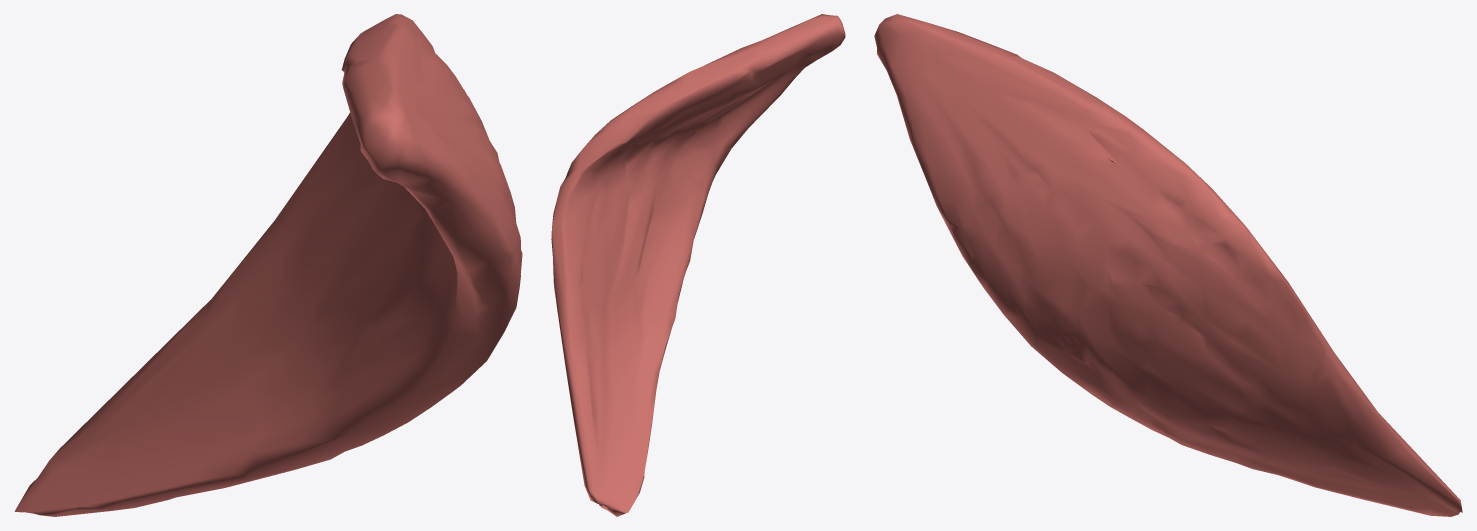
3 views of the same model, side by side, from view 1: azimuth 30°, elevation 25°; view 2: azimuth 150°, elevation 25°; view 3: azimuth 270°, elevation 25° (orthographic). The views are drawn at different scales.
Visible parts, largest first — view 1: 左侧环杓侧肌; view 2: 左侧环杓侧肌; view 3: 左侧环杓侧肌.
Boxes of the visible parts, x1,y1,x2,y2 form: 左侧环杓侧肌: (14, 14, 522, 516); 左侧环杓侧肌: (551, 14, 845, 516); 左侧环杓侧肌: (874, 14, 1462, 516).
Bounding box in the file's own units: 0.00655 × 0.0147 × 0.0158.
